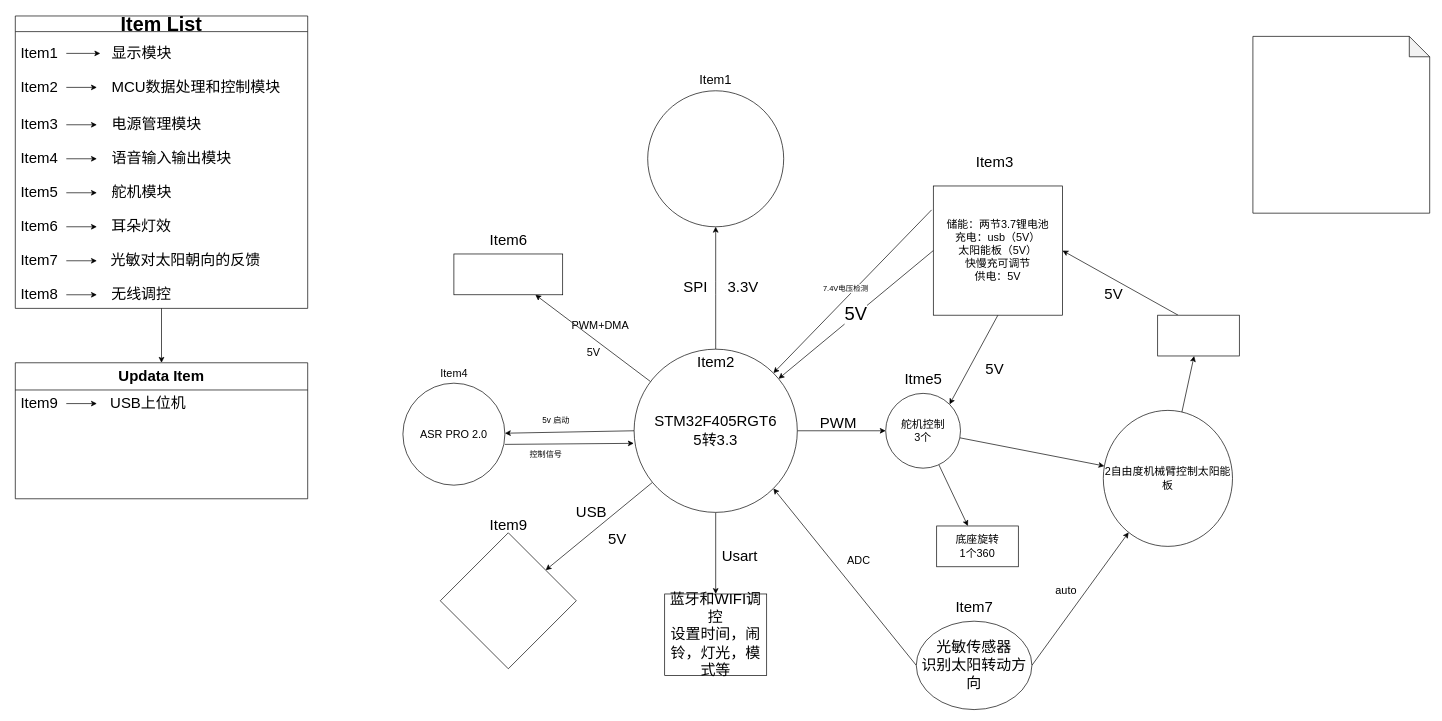
Some shapes in this 1442 by 721 pixel diagram are drawn without their labels. The centre of each missing label's shape, as x and y in pixels:
"4个RGB灯珠，WS2812" goes at [508,274].
"TFT显示屏（GC9A01驱动） 做好看的UI 功能： 时钟，计时器，nono的眼睛，简单的互动表情" goes at [715,158].
"两块5V1A太阳能板" goes at [1198,335].
"充电说明 1.充电中：红灯常亮 充电完成：绿灯常亮 充电故障：双灯闪烁 2.快充开关设置 正常充电：白灯亮 快充：蓝灯亮" goes at [1341,124].
"预留USB接口，为后期做上位机做准备" goes at [508,600].
